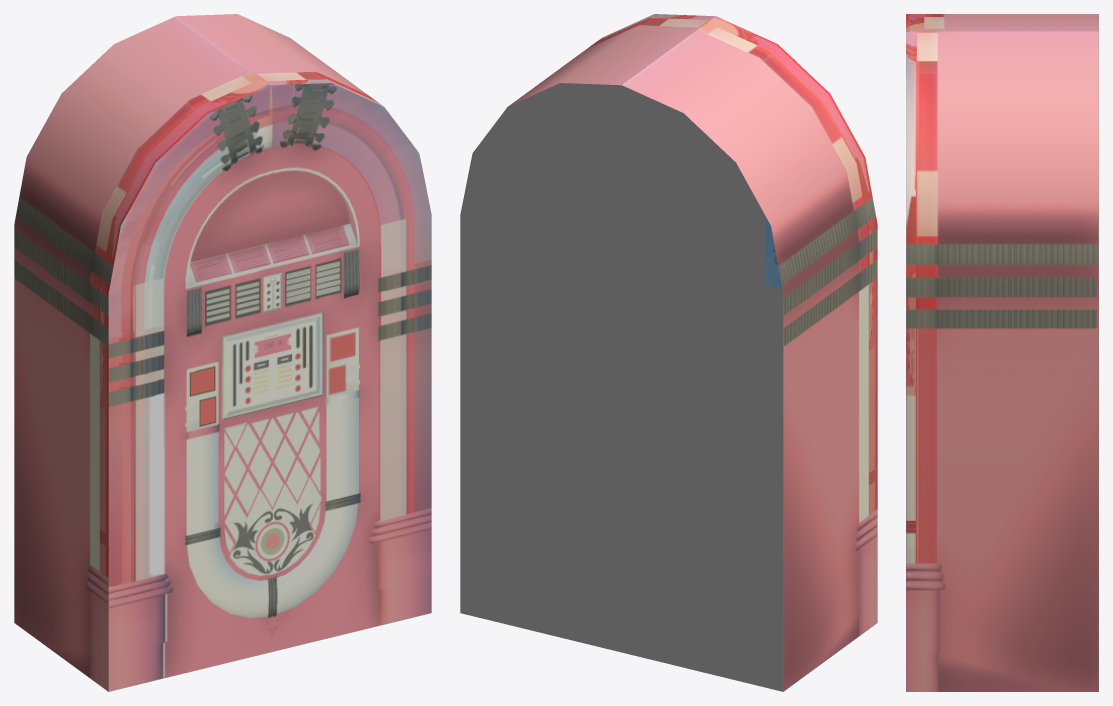
The model's file is jukebox.fbx.
The picture shows the model from 3 angles, left to right: view 1: azimuth 30°, elevation 25°; view 2: azimuth 150°, elevation 25°; view 3: azimuth 270°, elevation 25°; orthographic projection. The views are drawn at different scales.
Visible parts, largest first — view 1: pCube1; view 2: pCube1; view 3: pCube1.
Part boxes in pixels (box(x1,y1,x2,y2)): pCube1: box(14, 14, 431, 691); pCube1: box(460, 14, 877, 691); pCube1: box(906, 14, 1098, 691).
Size of the model in its own units: 7.55 by 12.66 by 3.82.
